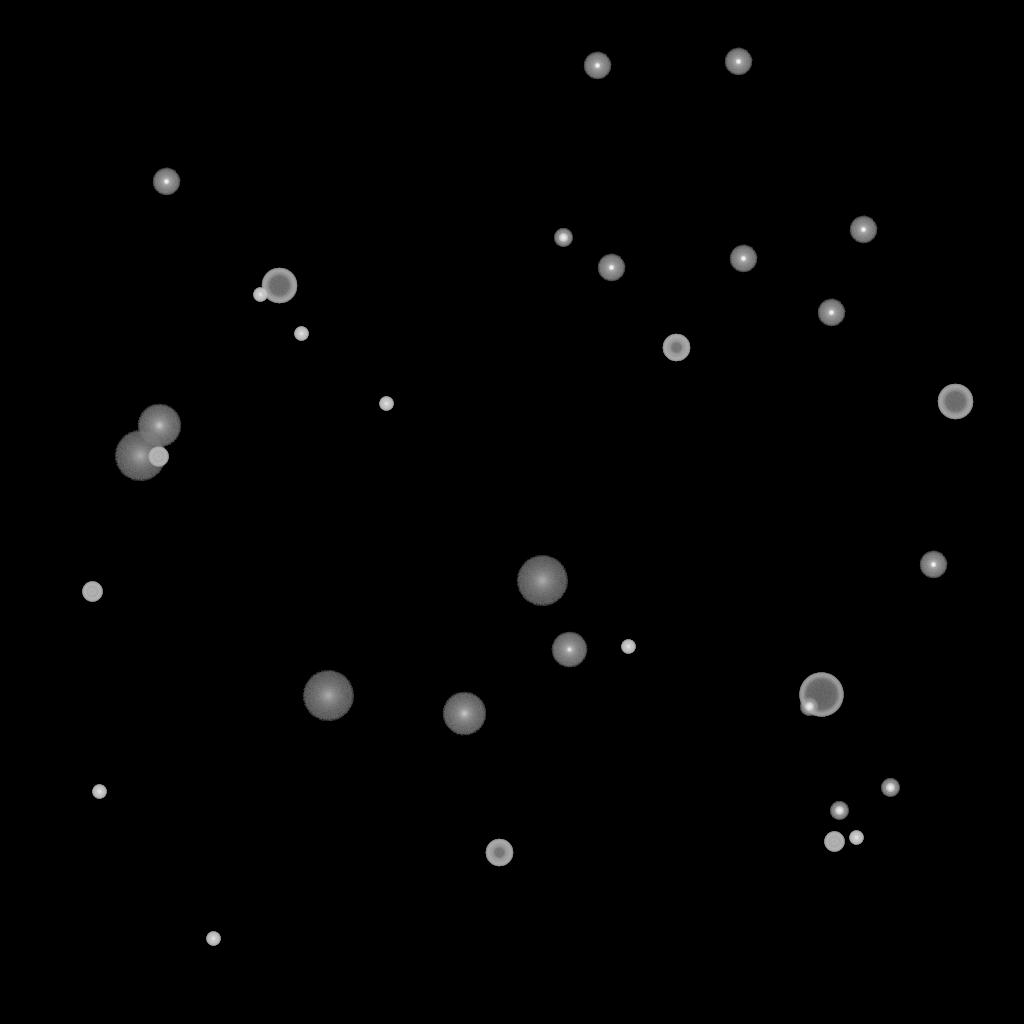depth:-10: (152, 168, 180, 196), (597, 254, 625, 282), (817, 299, 845, 327), (849, 216, 877, 244), (919, 551, 947, 579), (583, 52, 611, 80), (724, 48, 752, 76), (729, 245, 757, 273)
depth:-20: (830, 802, 848, 820), (800, 698, 818, 716), (881, 779, 899, 797), (554, 229, 572, 247)
depth:-30: (294, 327, 308, 341), (92, 785, 106, 799), (621, 640, 635, 654), (849, 831, 863, 845), (206, 932, 220, 946), (379, 397, 393, 411), (253, 288, 267, 302)
depth:-40: (148, 447, 168, 467), (82, 582, 102, 602), (824, 832, 844, 852)
depth:-50: (662, 334, 690, 362), (485, 839, 513, 867)
depth:-60: (261, 268, 297, 304), (937, 384, 973, 420)
depth:-70: (799, 673, 843, 717)
depth:0: (551, 632, 587, 668)
depth:10: (137, 404, 181, 448), (442, 692, 486, 736)
depth:20: (114, 431, 166, 481), (302, 671, 354, 721), (516, 556, 568, 606)
